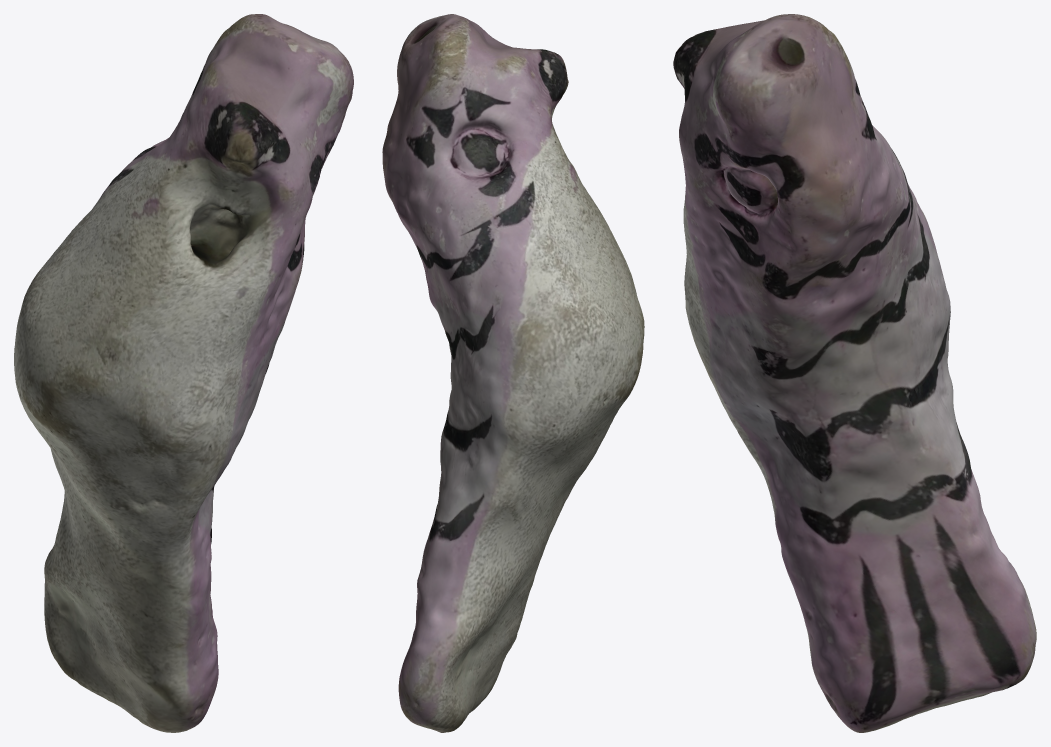
The picture shows the model from 3 angles, left to right: view 1: azimuth 30°, elevation 25°; view 2: azimuth 150°, elevation 25°; view 3: azimuth 270°, elevation 25°; orthographic projection. The views are drawn at different scales.
Size of the model in its own units: 0.3878 by 0.9414 by 0.4209.
1 material, 1 textured.
